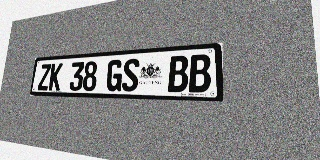3: (69, 62, 85, 91)
8: (82, 61, 98, 91)
B: (189, 54, 211, 93), (168, 55, 189, 92)
G: (106, 59, 123, 91)
K: (48, 63, 63, 91)
S: (121, 58, 140, 92)
Z: (37, 64, 51, 90)
